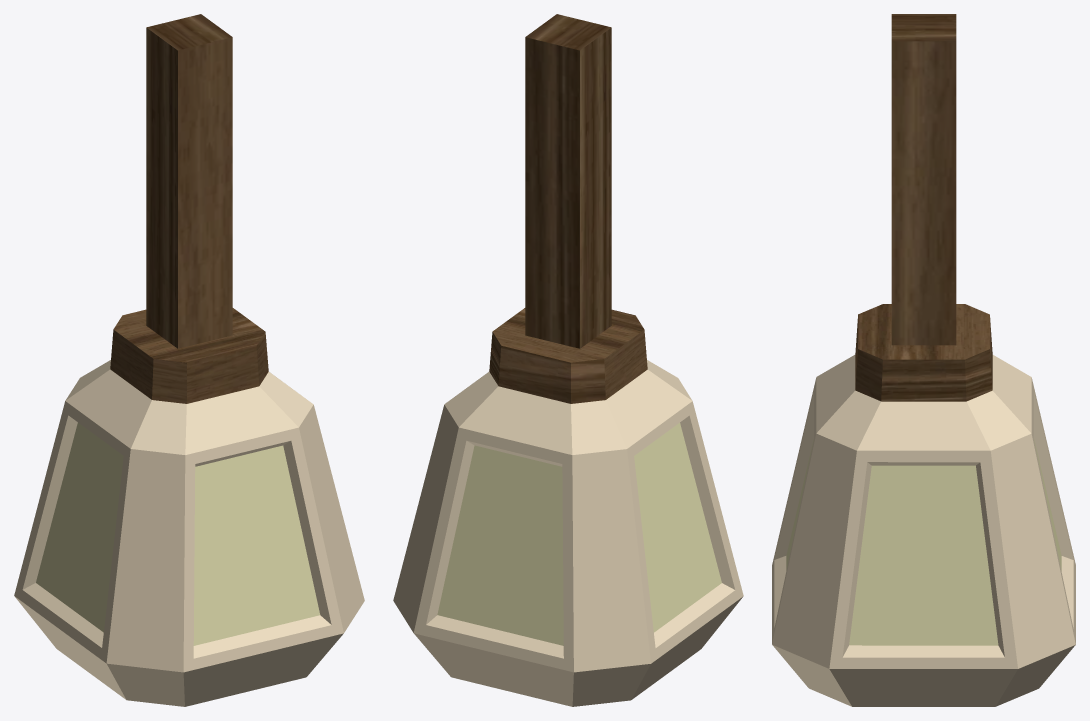
File: Lamp 01.glb
3 renders of one model, left to right at view 1: azimuth 30°, elevation 25°; view 2: azimuth 150°, elevation 25°; view 3: azimuth 270°, elevation 25°, orthographic.
Visible parts, largest first — view 1: Lamp_01; view 2: Lamp_01; view 3: Lamp_01.
Part boxes in pixels (x1,y1,x2,y2): Lamp_01: (14, 14, 364, 706); Lamp_01: (393, 14, 743, 706); Lamp_01: (772, 14, 1075, 706).
Bounding box in the file's own units: 0.1619 × 0.3707 × 0.1619.
3 materials, 1 textured.
